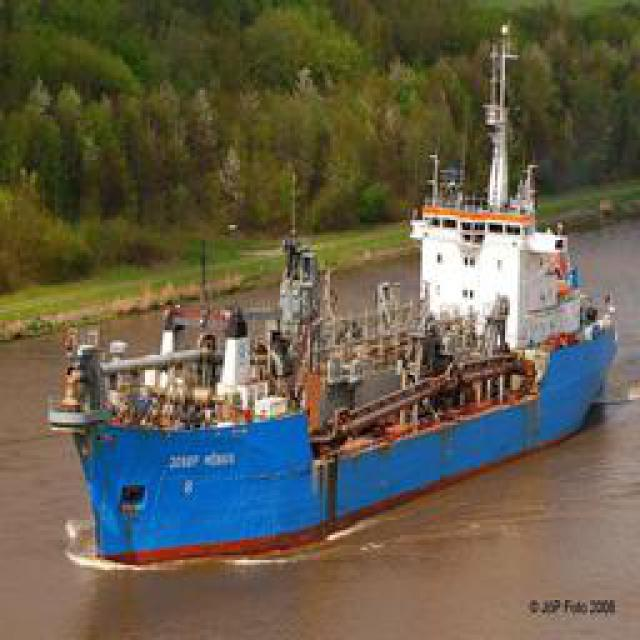Ship: (46, 193, 624, 568)
